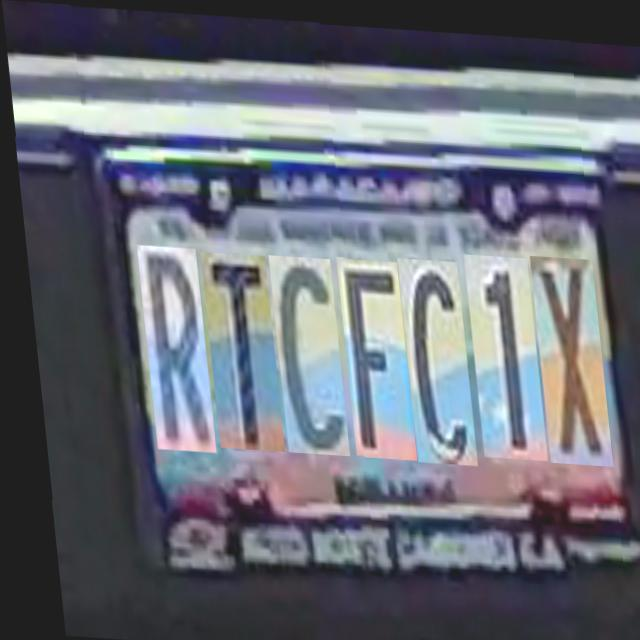1: (458, 247, 538, 452)
C: (392, 252, 468, 458), (263, 252, 341, 452)
F: (331, 252, 408, 454)
R: (132, 244, 206, 451)
T: (195, 250, 275, 448)
X: (525, 247, 604, 457)
